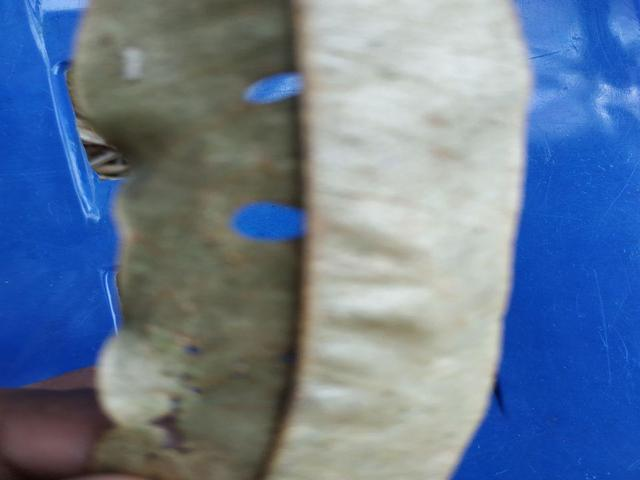blight spot: (137, 323, 247, 463), (220, 187, 314, 263), (224, 60, 318, 115), (112, 41, 162, 91)
